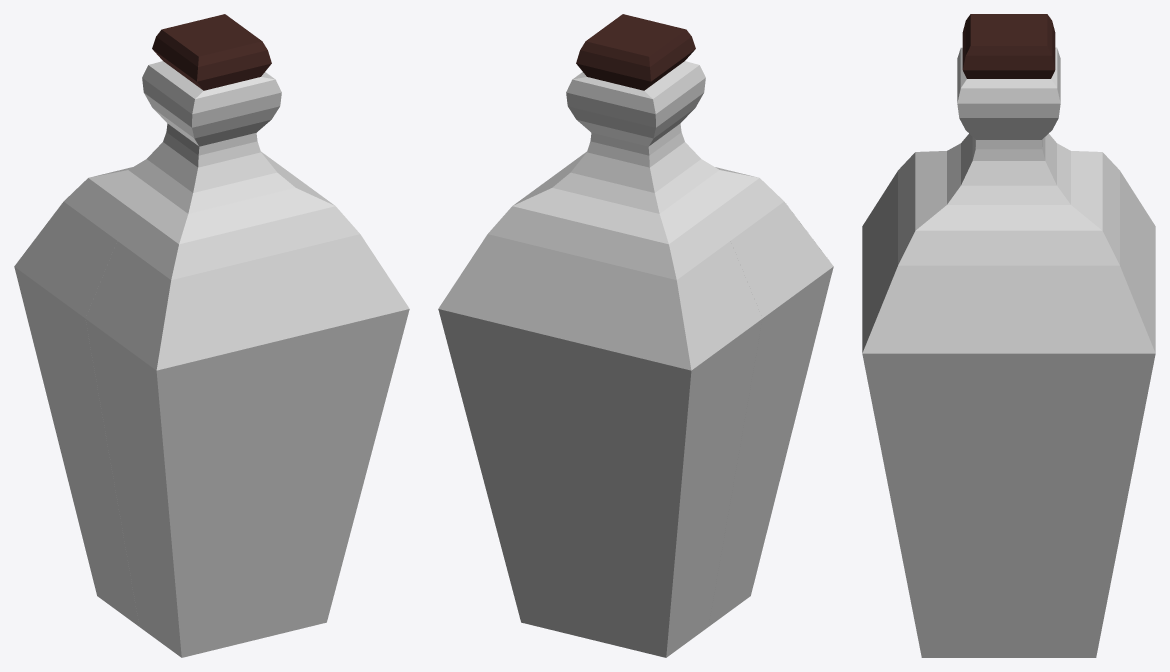
The model's file is botella.fbx.
The picture shows the model from 3 angles, left to right: view 1: azimuth 30°, elevation 25°; view 2: azimuth 150°, elevation 25°; view 3: azimuth 270°, elevation 25°; orthographic projection. The views are drawn at different scales.
Parts seen in each view (by area): view 1: Cubo, Cubo.001; view 2: Cubo, Cubo.001; view 3: Cubo, Cubo.001.
Boxes of the visible parts, box(x1,y1,x2,y2) form: Cubo: box(14, 61, 409, 657); Cubo.001: box(152, 14, 271, 90); Cubo: box(438, 61, 833, 657); Cubo.001: box(576, 14, 695, 90); Cubo: box(862, 47, 1155, 657); Cubo.001: box(962, 14, 1055, 78).
Bounding box in the file's own units: 28.89 × 62.57 × 28.12.
